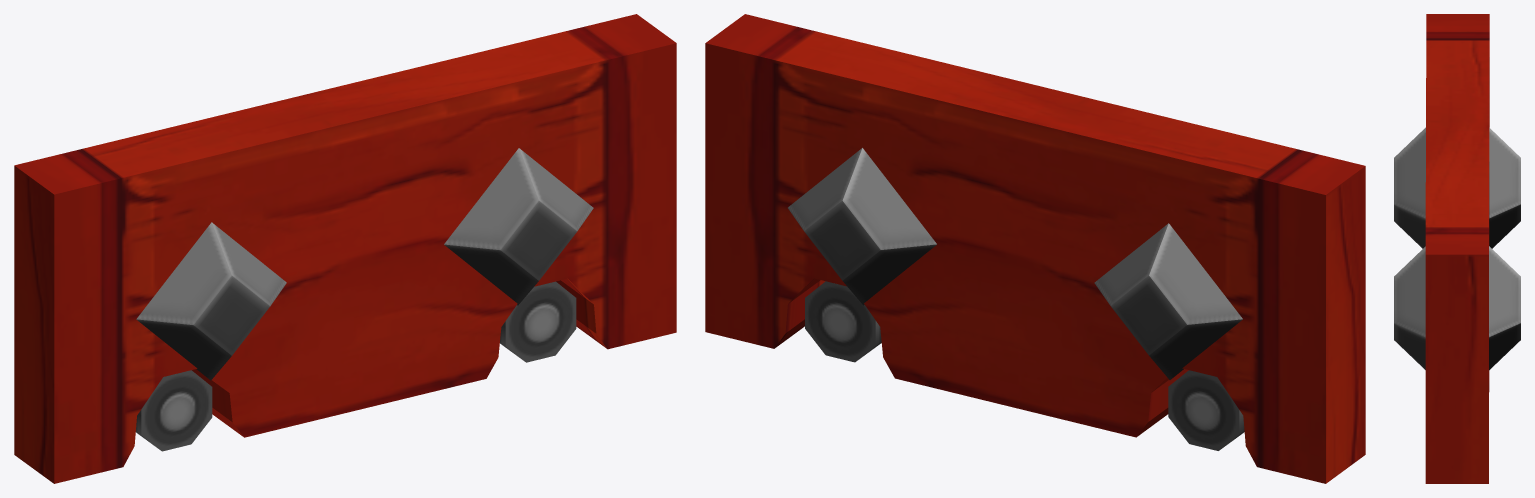
The model's file is dynamic_fence_rad_01.fbx.
The picture shows the model from 3 angles, left to right: view 1: azimuth 30°, elevation 25°; view 2: azimuth 150°, elevation 25°; view 3: azimuth 270°, elevation 25°; orthographic projection. The views are drawn at different scales.
Parts seen in each view (by area): view 1: dynamic_fence_rad_01; view 2: dynamic_fence_rad_01; view 3: dynamic_fence_rad_01.
Part boxes in pixels (x1,y1,x2,y2): dynamic_fence_rad_01: (14,14,676,483); dynamic_fence_rad_01: (705,14,1365,483); dynamic_fence_rad_01: (1394,14,1520,483).
Size of the model in its own units: 90 by 40 by 20.04.
